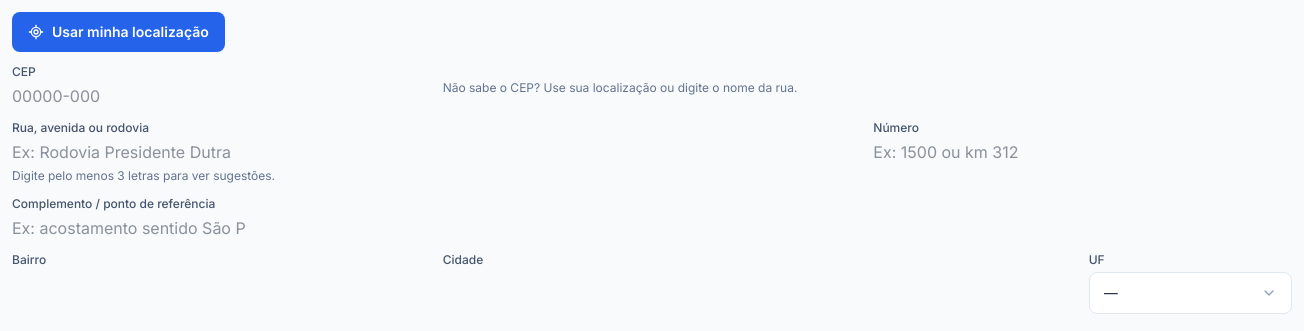
Test case: campo de localização › escolhe a sugestão com toque e envia a posição atual para priorizar resultados próximos
This screenshot has width=1304, height=331.
Step 1. Type "Paulista" into the dropdown labelled "Rua, avenida ou rodovia" → (129, 152), box [12,140,246,164]
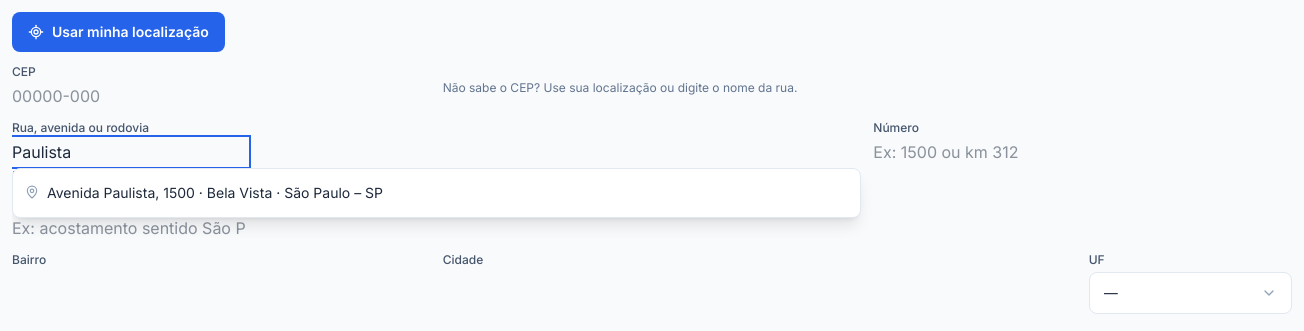
Step 2. Click the option "Avenida Paulista, 1500 · Bela Vista · São Paulo – SP" → (204, 192), box [25,184,383,201]
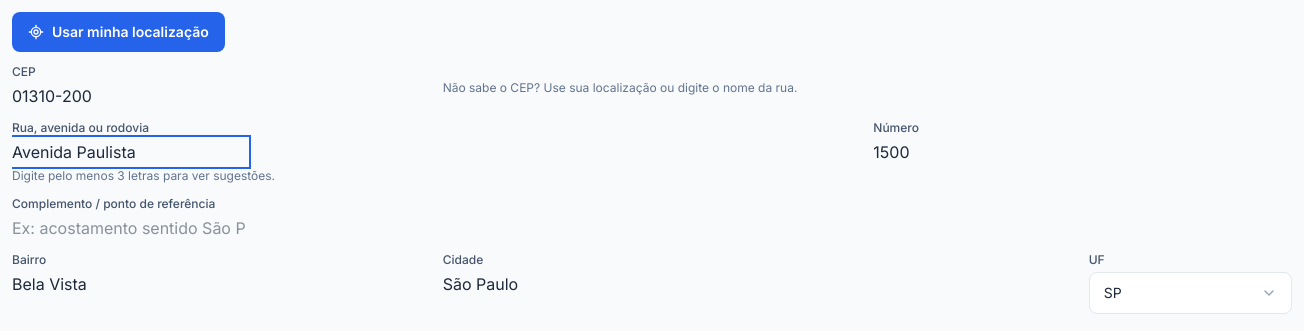
Check: the dropdown labelled "Rua, avenida ou rodovia" holds "Avenida Paulista", box [12,140,246,164]
